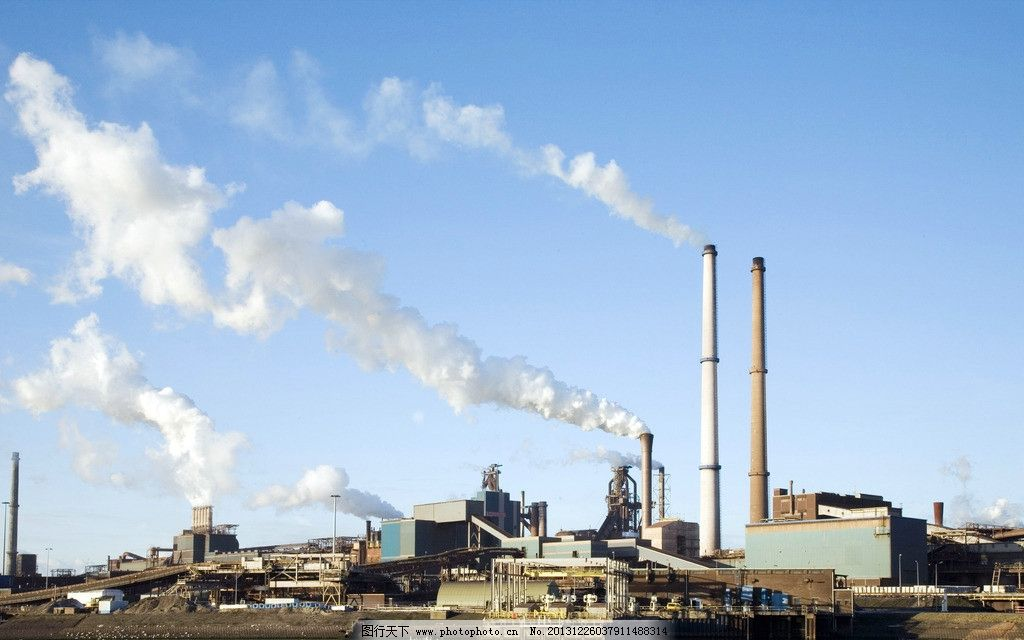dust: (497, 365, 666, 446), (141, 391, 243, 510), (595, 166, 728, 255), (273, 448, 418, 529)
